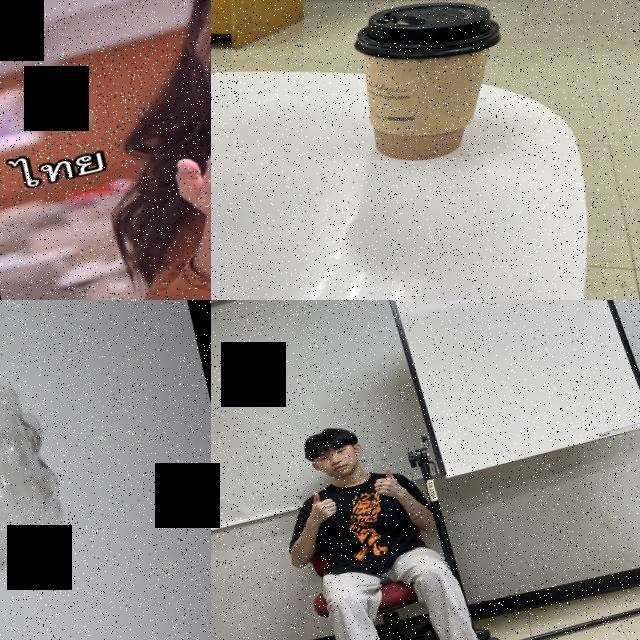bottle: (0, 371, 90, 640)
cup: (345, 0, 525, 170)
